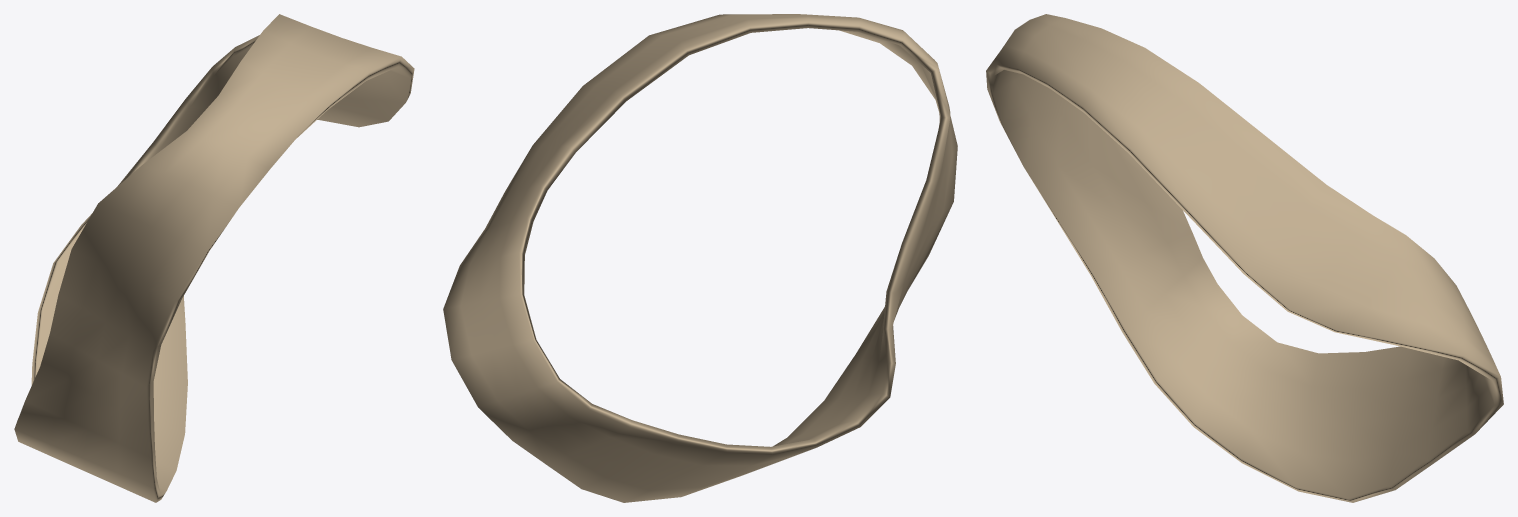
3 renders of one model, left to right at view 1: azimuth 30°, elevation 25°; view 2: azimuth 150°, elevation 25°; view 3: azimuth 270°, elevation 25°, orthographic. The views are drawn at different scales.
Visible parts, largest first — view 1: 右侧胫腓上关节囊; view 2: 右侧胫腓上关节囊; view 3: 右侧胫腓上关节囊.
Part boxes in pixels (<box>): 右侧胫腓上关节囊: <box>14,14,414,502</box>; 右侧胫腓上关节囊: <box>443,14,957,502</box>; 右侧胫腓上关节囊: <box>986,14,1503,502</box>.
Bounding box in the file's own units: 0.033 × 0.0379 × 0.0398.
